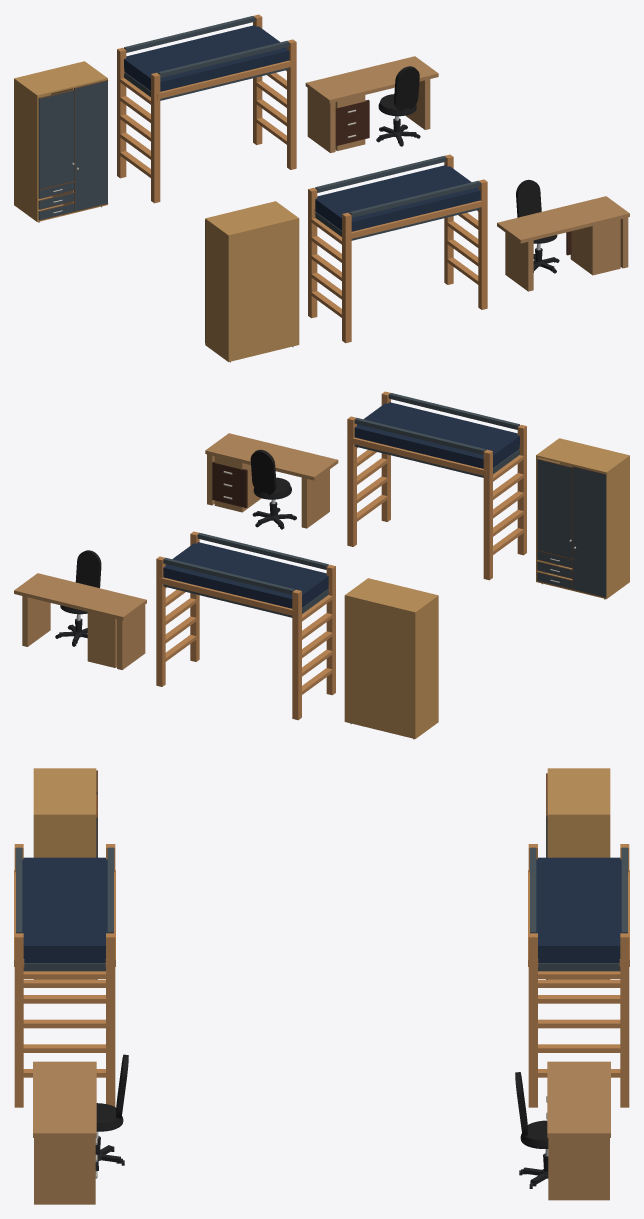
File: room_furniture-BhxvgrRt.glb
The picture shows the model from 3 angles, top to bottom: view 1: azimuth 30°, elevation 25°; view 2: azimuth 150°, elevation 25°; view 3: azimuth 270°, elevation 25°; orthographic projection. The views are drawn at different scales.
Size of the model in its own units: 6.06 by 1.87 by 5.99.
